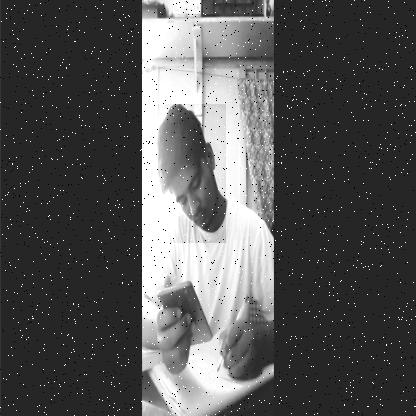Distracted: (158, 104, 226, 243)
